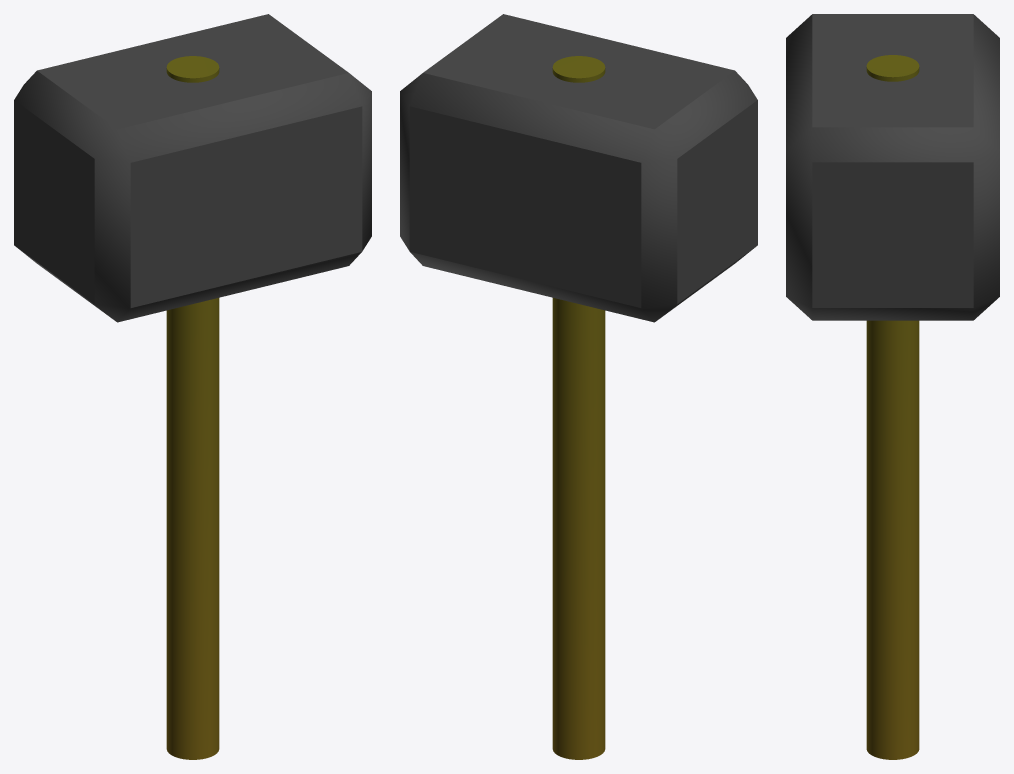
3 views of the same model, side by side, from view 1: azimuth 30°, elevation 25°; view 2: azimuth 150°, elevation 25°; view 3: azimuth 270°, elevation 25° (orthographic).
Parts seen in each view (by area): view 1: head, shaft; view 2: head, shaft; view 3: head, shaft.
Boxes of the visible parts, box(x1,y1,x2,y2) form: head: box(14, 14, 371, 322); shaft: box(166, 56, 219, 759); head: box(400, 14, 757, 322); shaft: box(552, 56, 605, 759); head: box(786, 14, 999, 320); shaft: box(866, 55, 919, 759).
Size of the model in its own units: 0.1277 by 0.3 by 0.0852.
